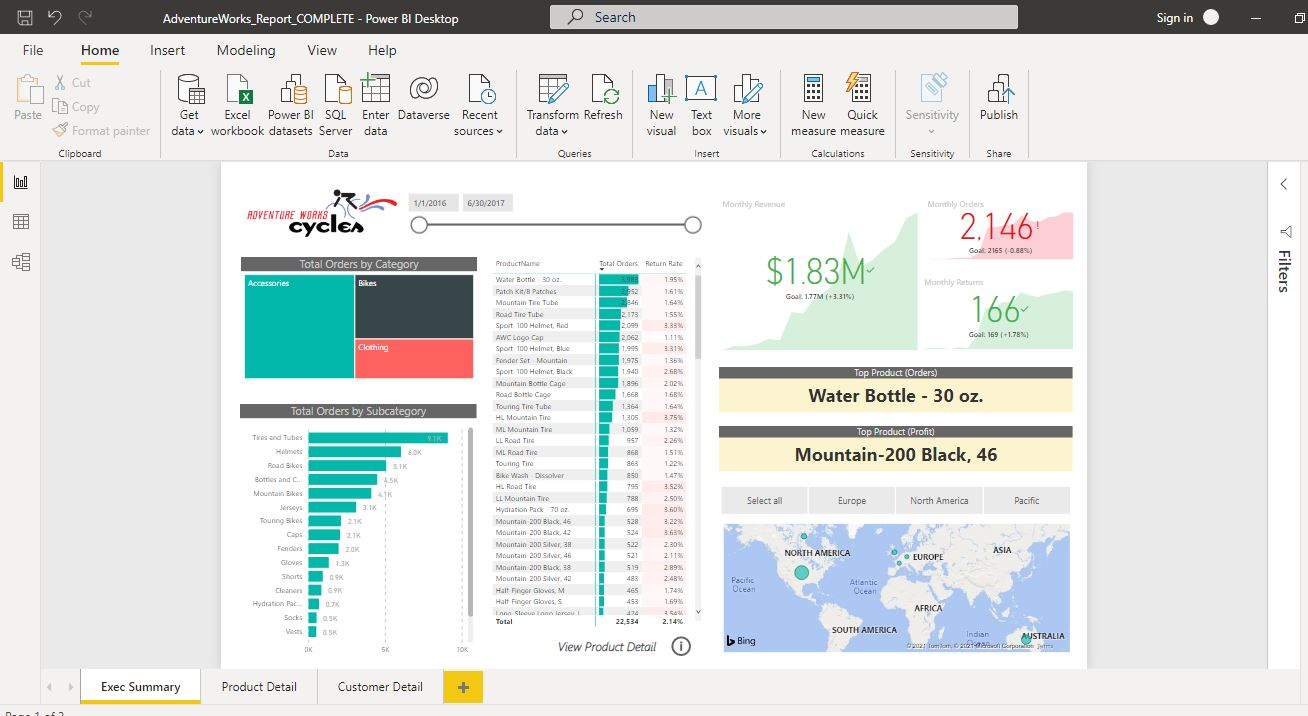

The dashboard page shown, as its layout file describes it:
{"tool":"powerbi","page":{"name":"Exec Summary","canvas":[1280,720],"ordinal":0},"visuals":[{"type":"map","fields":{"Category":["AW_Territories_Lookup.Country"],"Size":["AW_Sales.Total Orders"]},"box":[737.2,499.1,523.3,201.3],"z":11},{"type":"slicer","fields":{"Values":["AW_Territories_Lookup.Continent"]},"box":[714.2,443.9,564.7,54.1],"z":12},{"type":"textbox","box":[492.1,670.1,259.7,37.7],"z":13},{"type":"image","box":[31.1,5.5,240.2,80.1],"z":1000},{"type":"barChart","fields":{"Y":["AW_Sales.Total Orders"],"Category":["AW_Product_Subcategory_Lookup.SubcategoryName"]},"box":[28.6,328.3,350,380.9],"z":2000},{"type":"treemap","fields":{"Group":["AW_Product_Category_Lookup.CategoryName","AW_Product_Subcategory_Lookup.SubcategoryName"],"Values":["AW_Sales.Total Orders"]},"box":[29.3,110.7,348.9,185.3],"z":3000},{"type":"pivotTable","fields":{"Values":["AW_Sales.Total Orders","AW_Returns.Return Rate"],"Rows":["AW_Product_Category_Lookup.CategoryName","AW_Product_Subcategory_Lookup.SubcategoryName","AW_Product_Lookup.ProductName"]},"box":[395.8,106.4,319.1,555.7],"z":4000},{"type":"slicer","fields":{"Values":["AW_Calendar_Lookup.Date"]},"box":[265.4,7.3,454.1,85.8],"z":5000},{"type":"kpi","fields":{"Indicator":["AW_Sales.Total Revenue"],"TrendLine":["AW_Calendar_Lookup.Start of Month"],"Goal":["AW_Sales.Prev Month Revenue"]},"box":[736.7,24,298.6,229.7],"z":6000},{"type":"kpi","fields":{"TrendLine":["AW_Calendar_Lookup.Start of Month"],"Indicator":["AW_Sales.Total Orders"],"Goal":["AW_Sales.Prev Month Orders"]},"box":[1038.6,24,226.5,95.6],"z":7000},{"type":"kpi","fields":{"TrendLine":["AW_Calendar_Lookup.Start of Month"],"Indicator":["AW_Returns.Total Returns"],"Goal":["AW_Returns.Prev Month Returns"]},"box":[1035.2,139.6,229.9,112.8],"z":8000},{"type":"card","fields":{"Values":["Min(AW_Product_Lookup.ProductName)"]},"box":[736.7,273.4,522.8,67.5],"z":9000},{"type":"card","fields":{"Values":["Min(AW_Product_Lookup.ProductName)"]},"box":[736.7,360.8,522.8,67.5],"z":10000},{"type":"actionButton","box":[661.2,666.9,59.3,38.9],"z":10001}]}

Visuals, with their boxes on the page's 1280x720 design canvas (x1, y1, x2, y2). These are canvas units, not pixel positions in the 1308x716 screenshot, which may show the page scaled, cropped or inside an application window:
map - AW_Territories_Lookup.Country x AW_Sales.Total Orders: crop(737, 499, 1260, 700)
slicer - AW_Territories_Lookup.Continent: crop(714, 444, 1279, 498)
textbox: crop(492, 670, 752, 708)
image: crop(31, 6, 271, 86)
barChart - AW_Sales.Total Orders x AW_Product_Subcategory_Lookup.SubcategoryName: crop(29, 328, 379, 709)
treemap - AW_Product_Category_Lookup.CategoryName x AW_Product_Subcategory_Lookup.SubcategoryName: crop(29, 111, 378, 296)
pivotTable - AW_Sales.Total Orders x AW_Returns.Return Rate: crop(396, 106, 715, 662)
slicer - AW_Calendar_Lookup.Date: crop(265, 7, 720, 93)
kpi - AW_Sales.Total Revenue x AW_Calendar_Lookup.Start of Month: crop(737, 24, 1035, 254)
kpi - AW_Calendar_Lookup.Start of Month x AW_Sales.Total Orders: crop(1039, 24, 1265, 120)
kpi - AW_Calendar_Lookup.Start of Month x AW_Returns.Total Returns: crop(1035, 140, 1265, 252)
card - Min(AW_Product_Lookup.ProductName): crop(737, 273, 1260, 341)
card - Min(AW_Product_Lookup.ProductName): crop(737, 361, 1260, 428)
actionButton: crop(661, 667, 720, 706)
